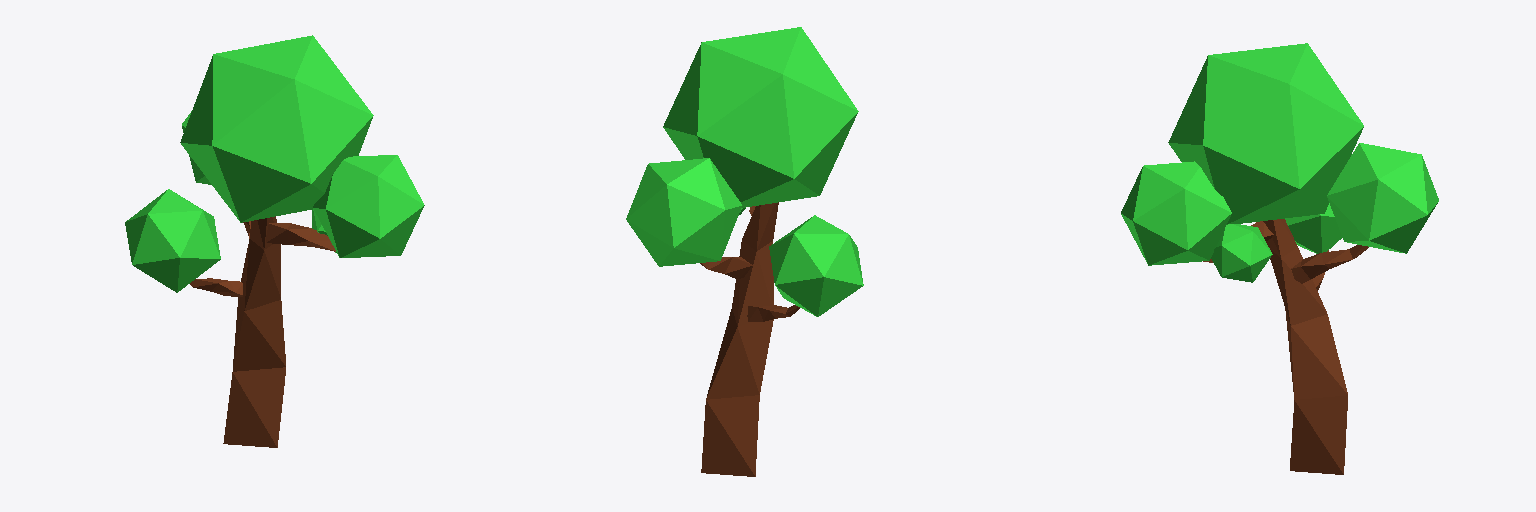
3 views of the same model, side by side, from view 1: azimuth 30°, elevation 25°; view 2: azimuth 150°, elevation 25°; view 3: azimuth 270°, elevation 25° (orthographic).
Visible parts, largest first — view 1: Platonic.3, Cylinder.4, Platonic.4, Platonic.2; view 2: Platonic.3, Cylinder.4, Platonic.1, Platonic.2; view 3: Platonic.3, Cylinder.4, Platonic.1, Platonic.4, Platonic, Platonic.2.
Part boxes in pixels (bbox=[...]): Platonic.3: bbox=[180, 35, 373, 222]; Cylinder.4: bbox=[190, 216, 335, 447]; Platonic.4: bbox=[313, 155, 424, 257]; Platonic.2: bbox=[125, 189, 220, 292]; Platonic.3: bbox=[663, 27, 858, 207]; Cylinder.4: bbox=[700, 202, 799, 476]; Platonic.1: bbox=[626, 158, 742, 266]; Platonic.2: bbox=[769, 215, 863, 316]; Platonic.3: bbox=[1168, 43, 1363, 224]; Cylinder.4: bbox=[1203, 219, 1368, 474]; Platonic.1: bbox=[1327, 143, 1438, 253]; Platonic.4: bbox=[1121, 161, 1231, 265]; Platonic: bbox=[1211, 224, 1272, 282]; Platonic.2: bbox=[1285, 203, 1341, 253].
Size of the model in its own units: 4.55 by 8 by 5.72.
2 materials, 2 textured.